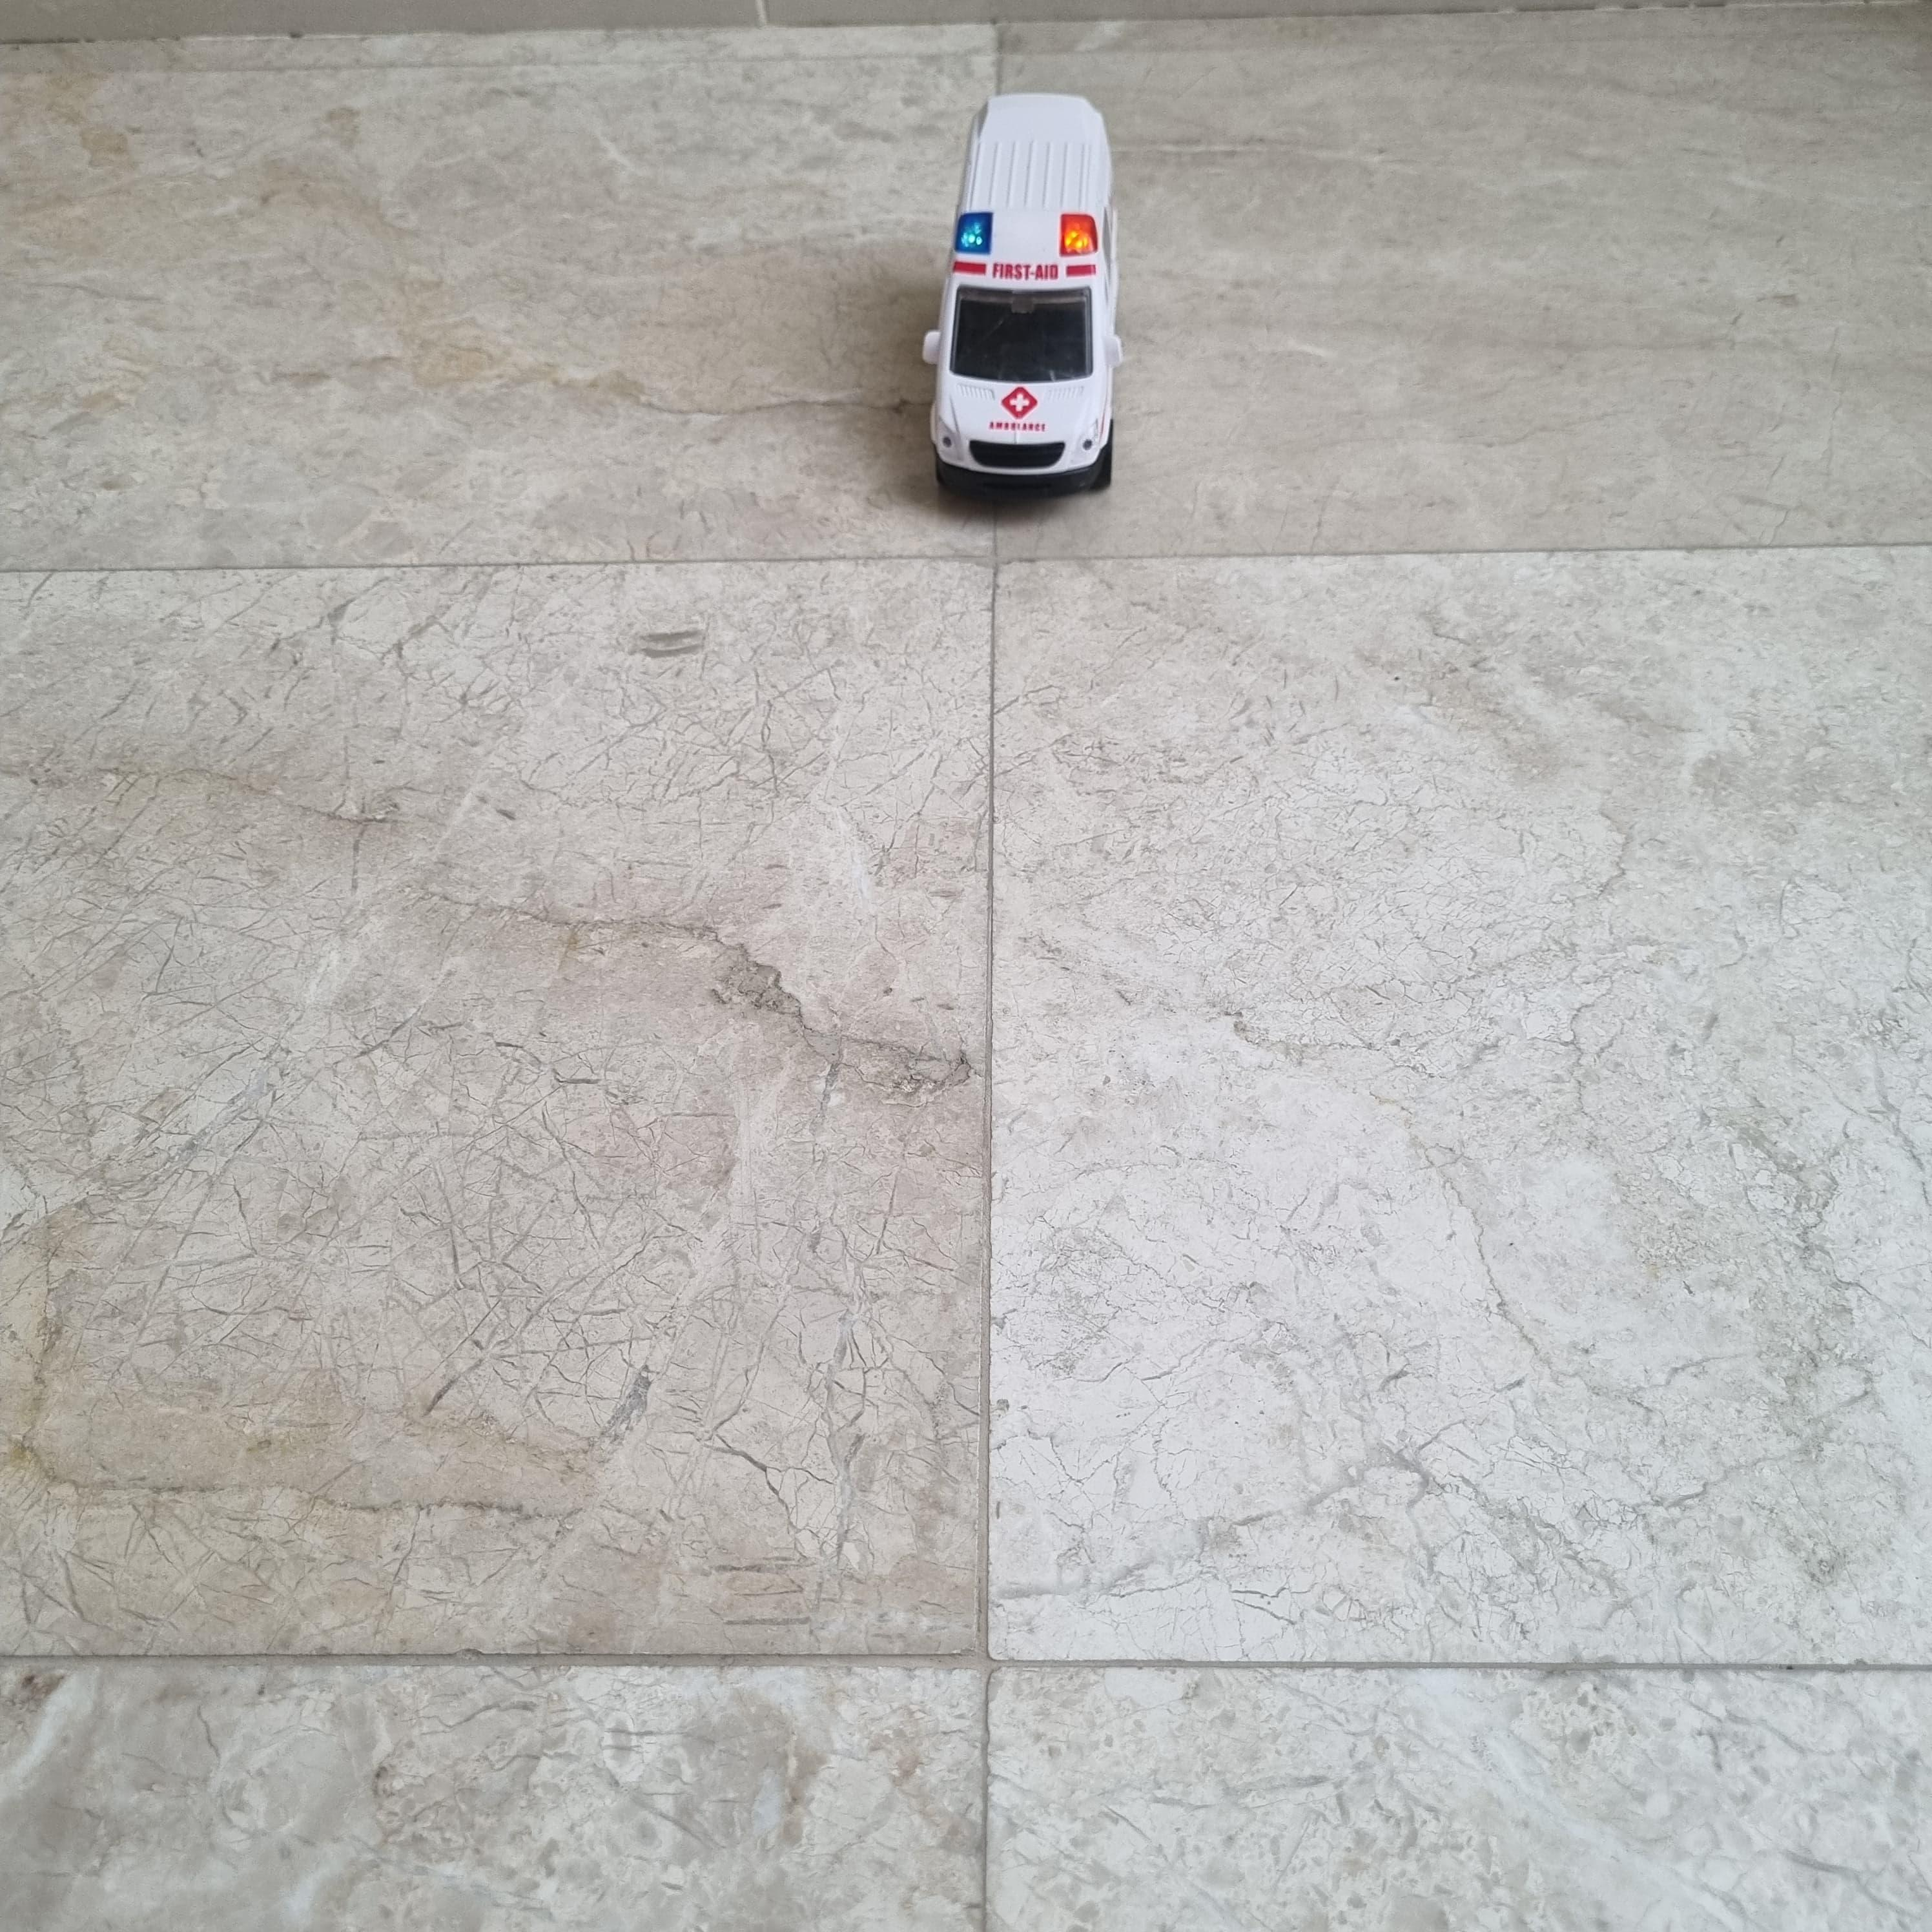ambulance_on: (915, 97, 1131, 499)
